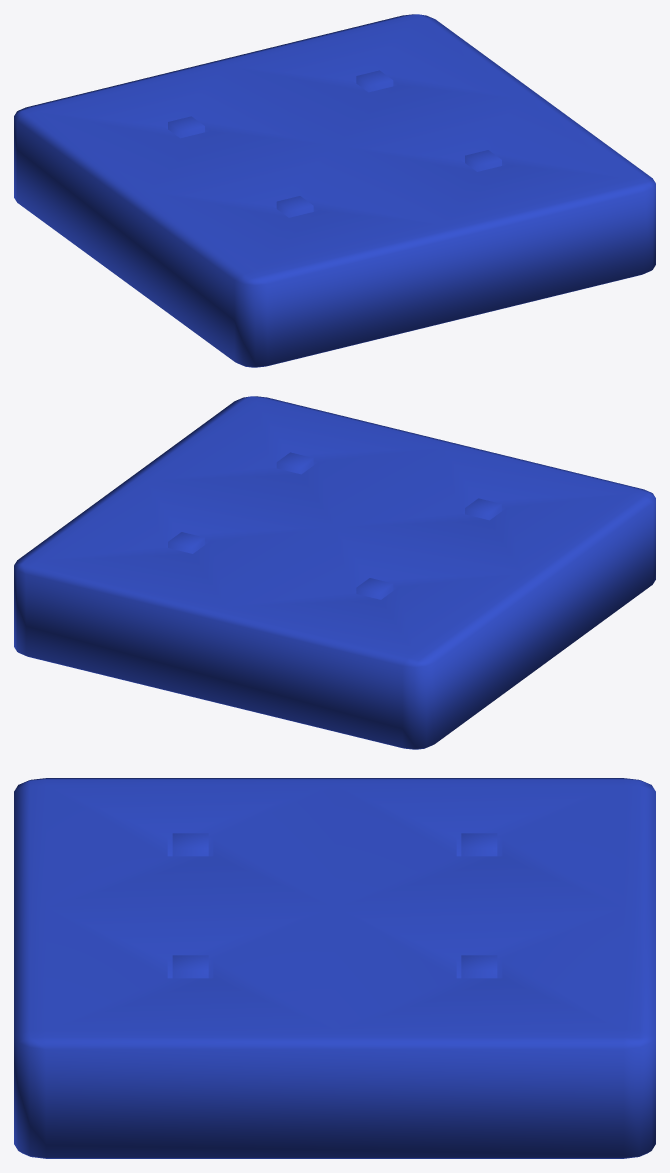
File: MSH_coussin.fbx
3 views of the same model, one above another, from view 1: azimuth 30°, elevation 25°; view 2: azimuth 150°, elevation 25°; view 3: azimuth 270°, elevation 25° (orthographic). The views are drawn at different scales.
Parts seen in each view (by area): view 1: coussin_low; view 2: coussin_low; view 3: coussin_low.
Boxes of the visible parts, x1,y1,x2,y2 form: coussin_low: (14, 14, 655, 367); coussin_low: (14, 396, 655, 749); coussin_low: (14, 778, 655, 1158).
Size of the model in its own units: 42.08 by 9.12 by 42.08.
